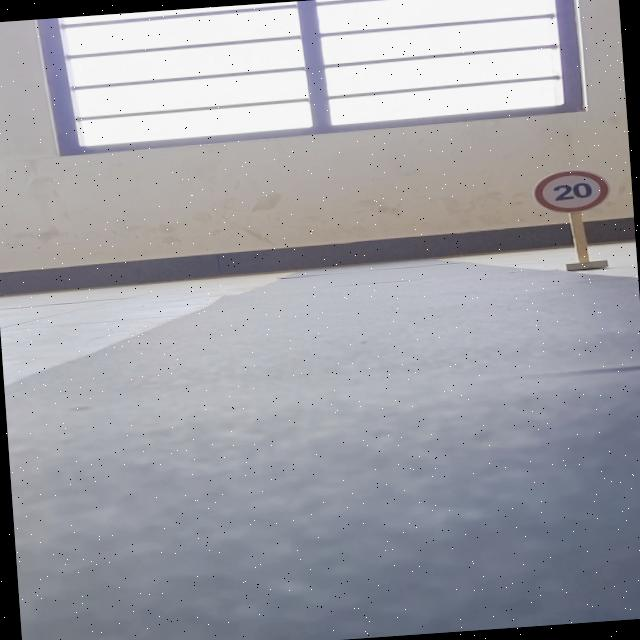Speed20: (525, 162, 615, 218)
